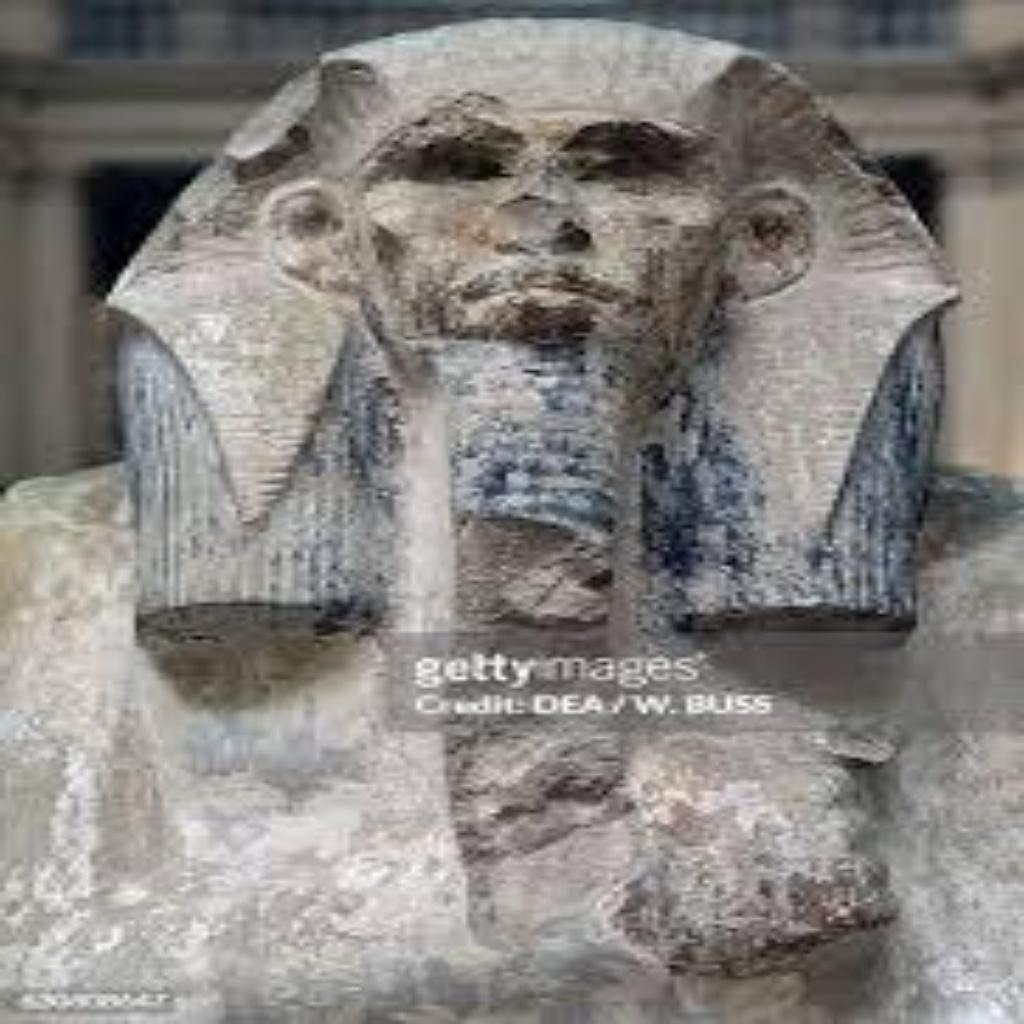Statue of King Zoser: (0, 14, 996, 1020)
